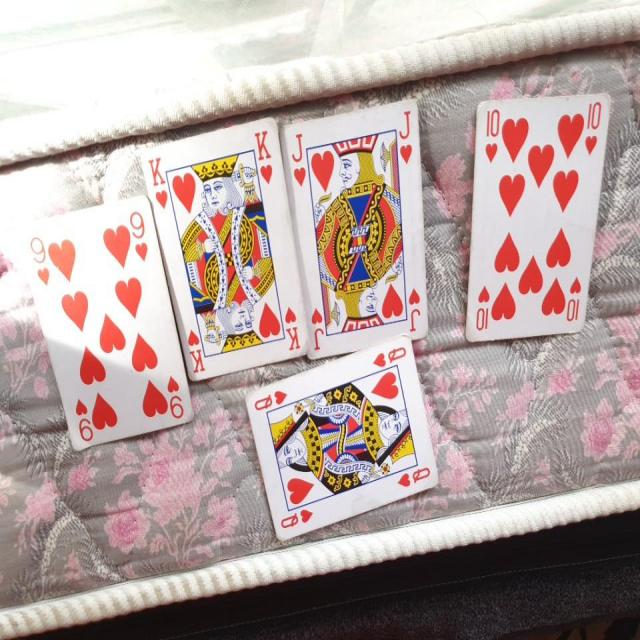10 Hearts: (464, 93, 612, 338)
9 Hearts: (31, 188, 194, 457)
J Hearts: (277, 97, 432, 363)
K Hearts: (139, 116, 312, 384)
Q Hearts: (242, 332, 440, 553)
